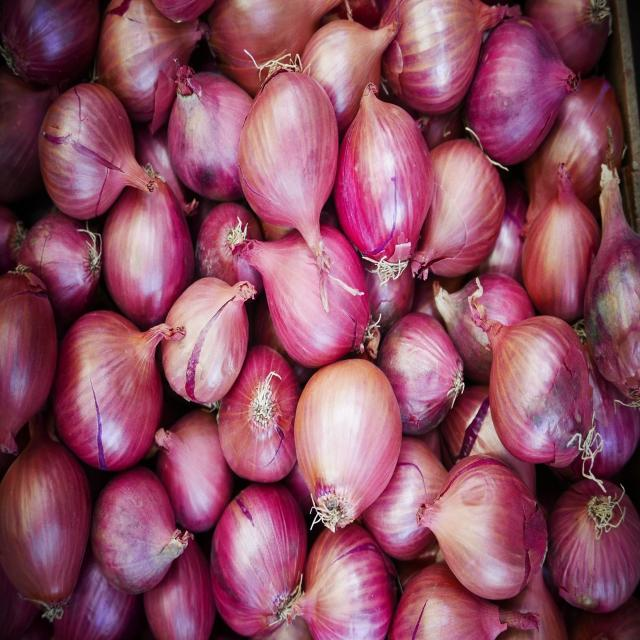onion: (283, 359, 408, 529), (58, 294, 169, 484), (483, 297, 599, 469), (235, 65, 340, 244), (33, 82, 161, 223), (418, 451, 542, 588), (332, 95, 423, 266), (204, 467, 309, 615), (0, 455, 93, 622), (374, 0, 492, 118), (91, 470, 195, 597)
